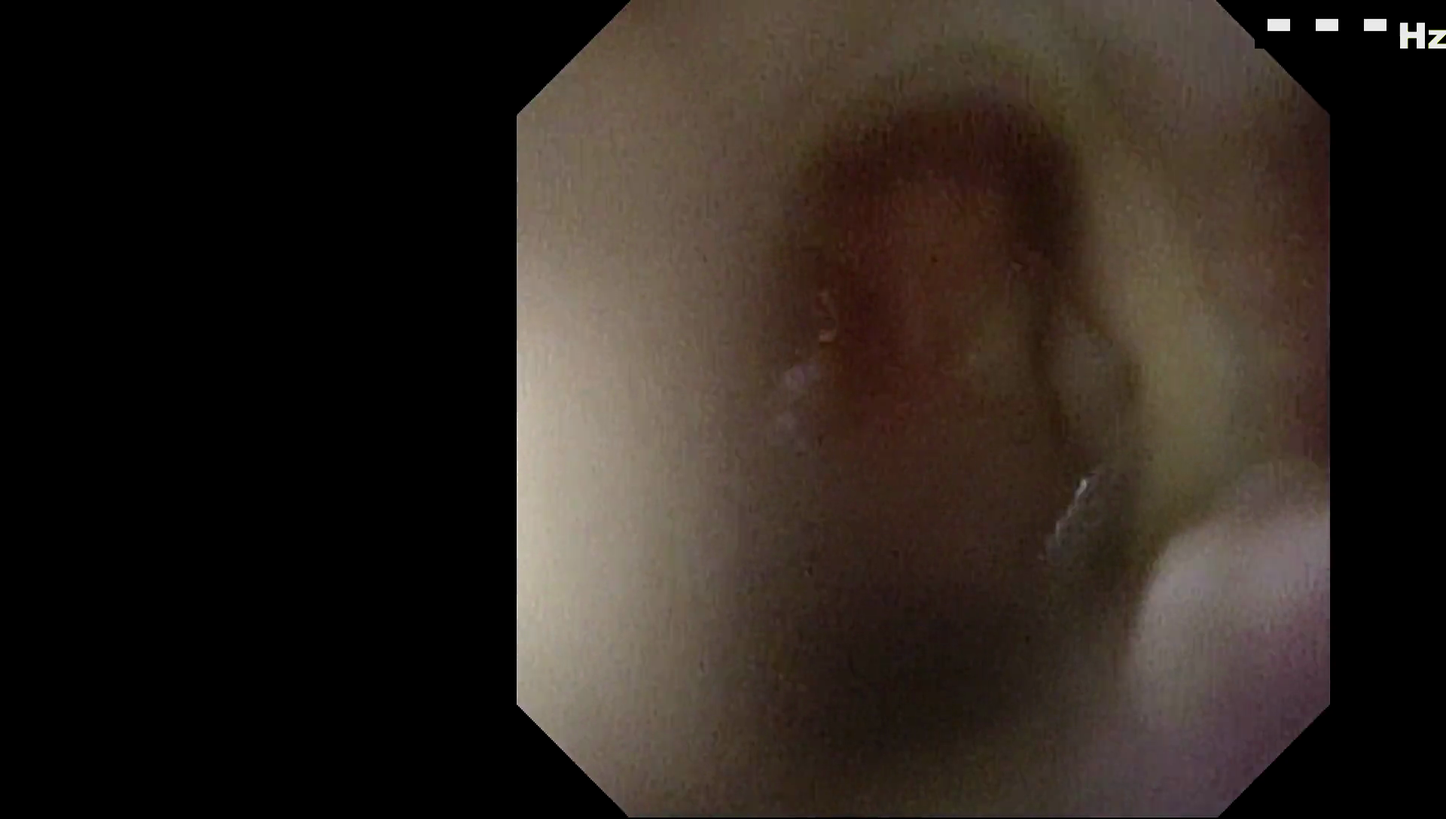close_wall: (520, 144, 868, 699)
next: (727, 504, 1116, 803), (977, 66, 1098, 369)
